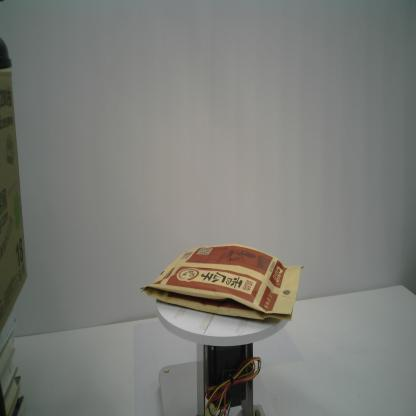Dried Food: (138, 244, 305, 324)
